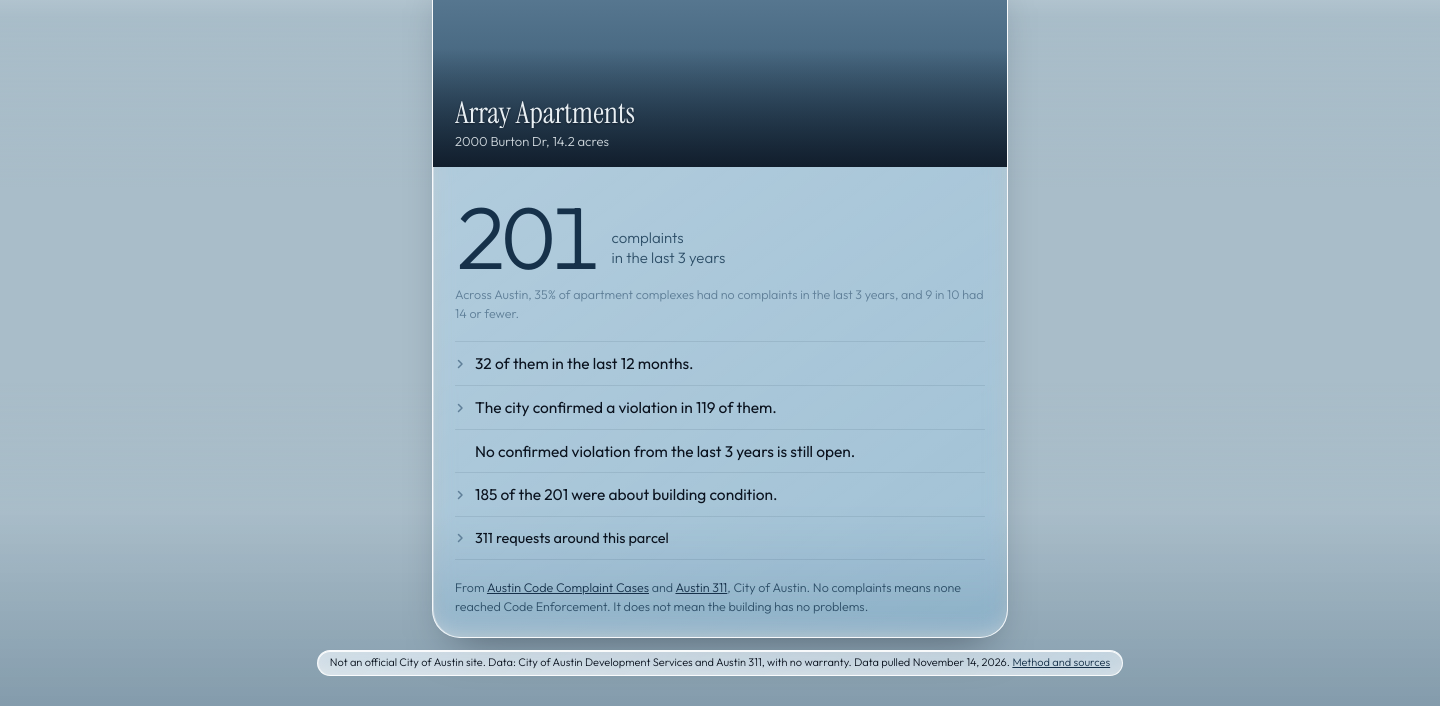
Test case: shows the building's full record: the 3 years lead, with 12 months and 2 years beside them
Expected: the heading "Array Apartments" is shown, [455,93,635,132]
Expected: the text "in the last 3 years" reads "201 complaints in the last 3 years", [455,181,725,292]
Click the button "32 of them in the last 12 months." at (584, 363), box [447,342,993,385]
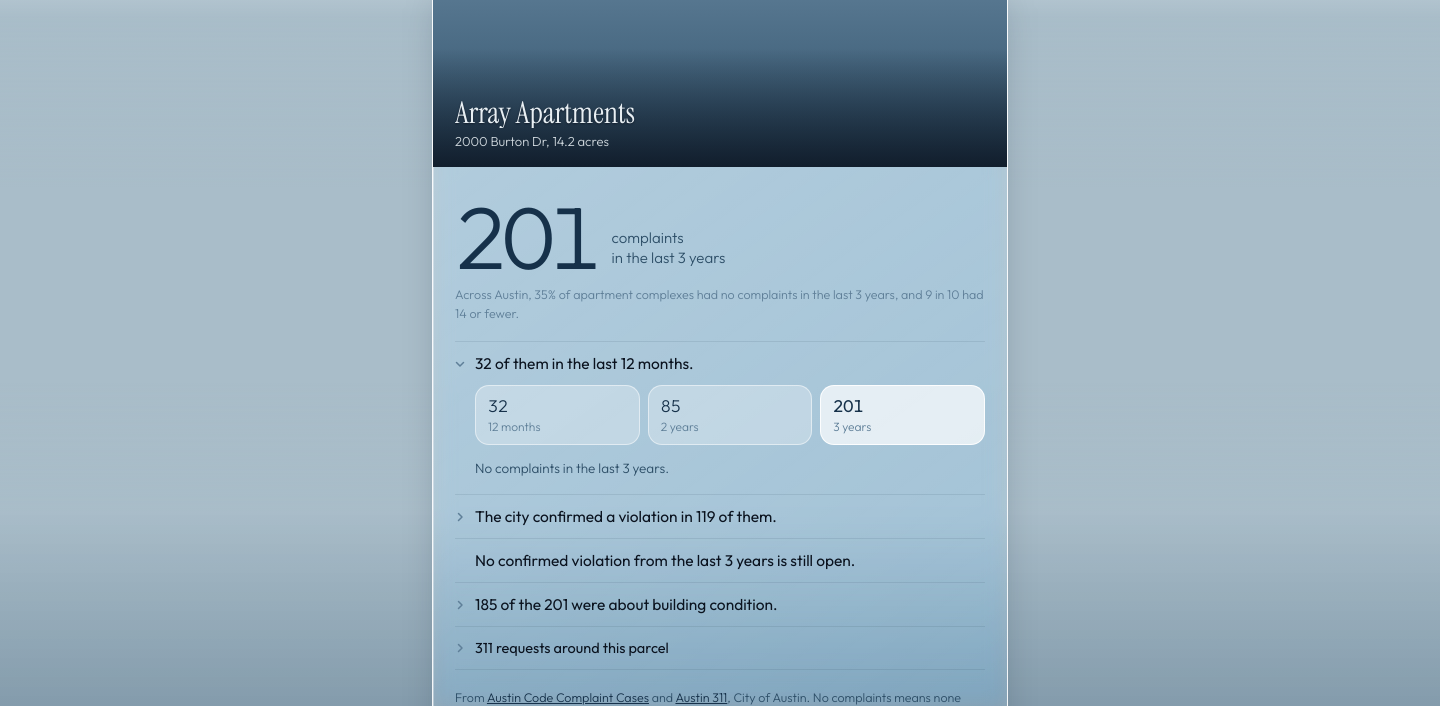
Now the elements with test id "period-figure" read "3212 months", "852 years", "2013 years", in this order, box [475,385,640,445]; [648,385,812,445]; [820,385,985,445]
Click the button "The city confirmed a violation in 119 of them." at (720, 517), box [447,495,993,538]
(page scrolled)
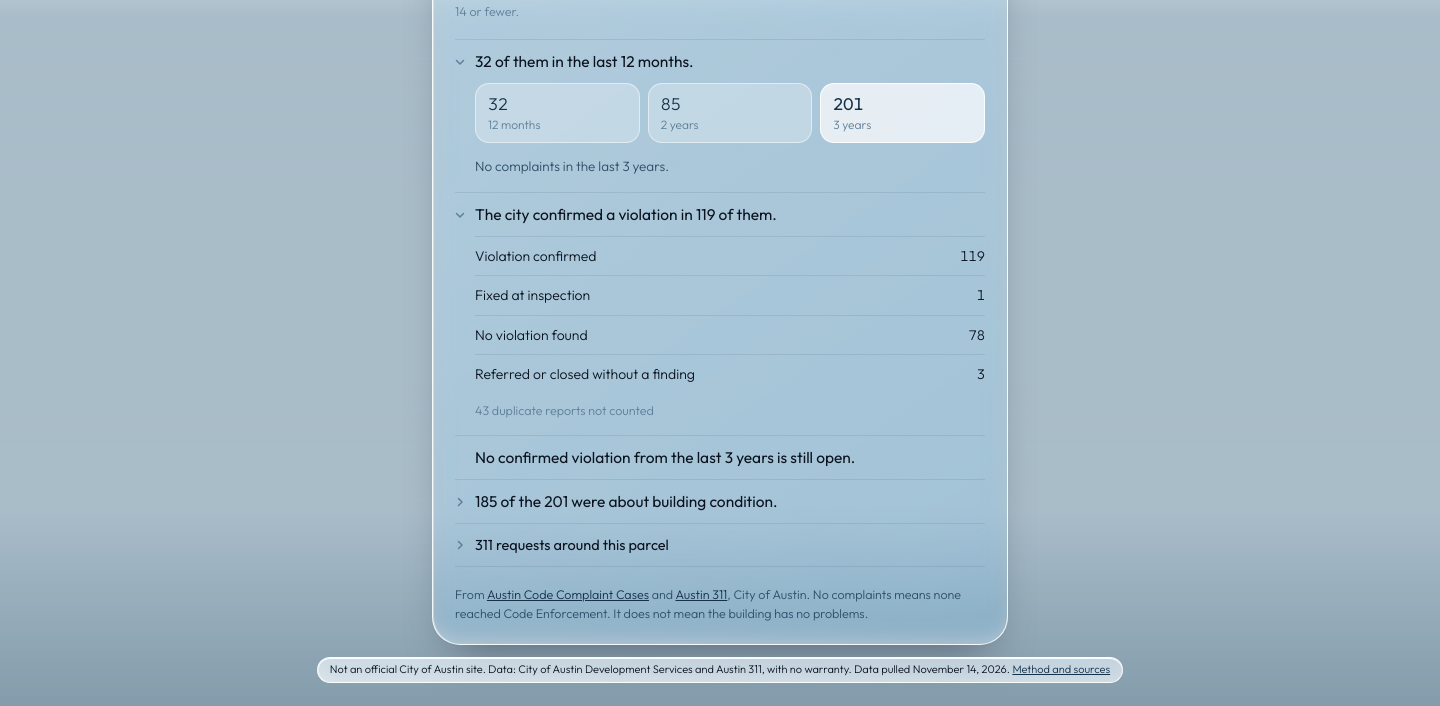
Now the list item "Violation confirmed" reads "Violation confirmed 119", box [475,236,985,275]
Click the button "185 of the 201 were about building condition." at (720, 502), box [447,480,993,523]
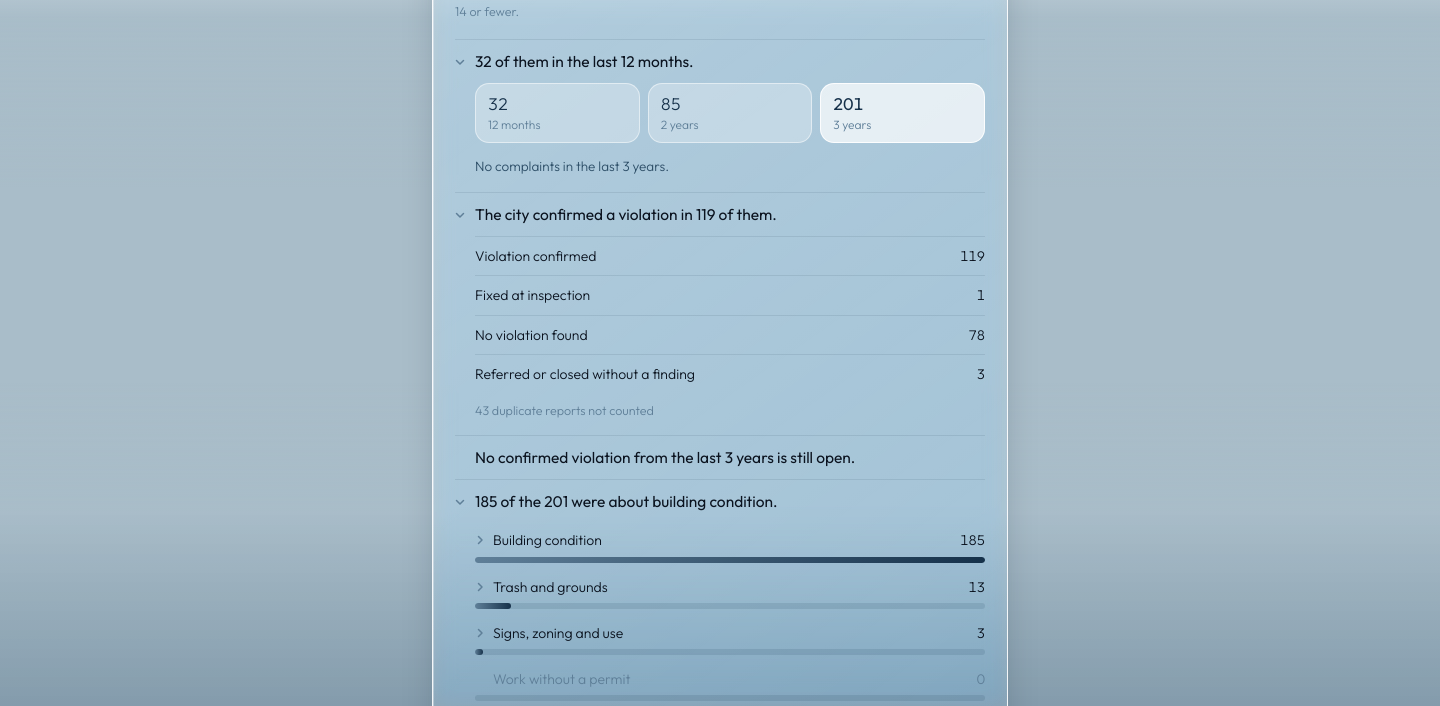
Now the button "Building condition 185" is shown, box [467,523,993,570]
Now the button "Trash and grounds 13" is shown, box [467,570,993,616]
